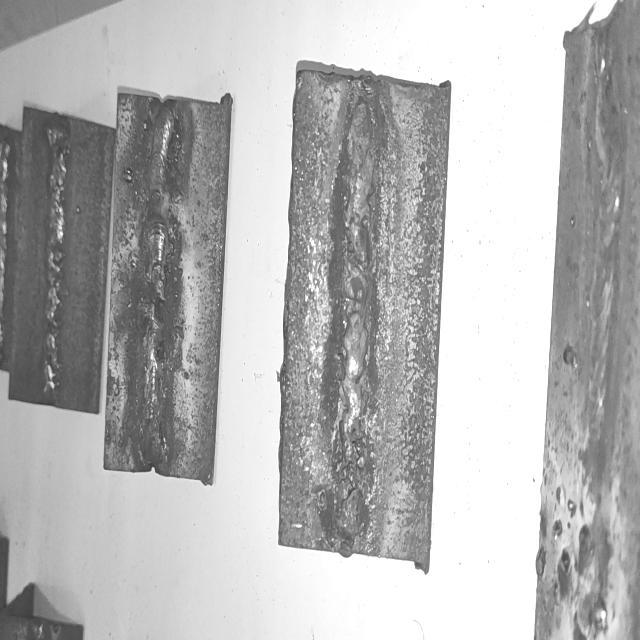Defect: (329, 408, 379, 544), (142, 317, 172, 457), (140, 154, 180, 251)
Welding Line: (334, 84, 381, 542), (143, 101, 180, 466), (43, 111, 68, 402)
Workpiece: (276, 53, 454, 579), (531, 0, 640, 640), (100, 76, 232, 499), (5, 103, 119, 415)
